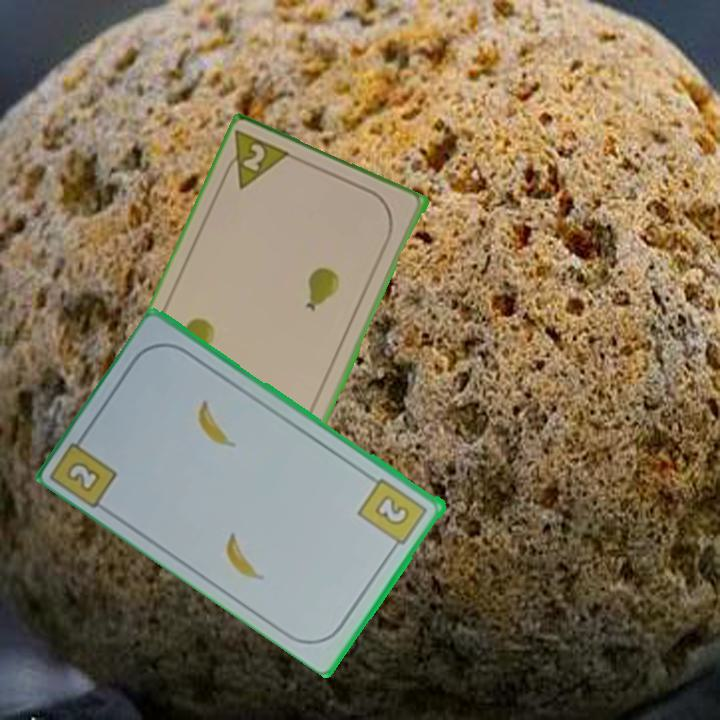2b: (355, 474, 431, 554), (63, 457, 105, 495)
2p: (217, 127, 297, 194)
